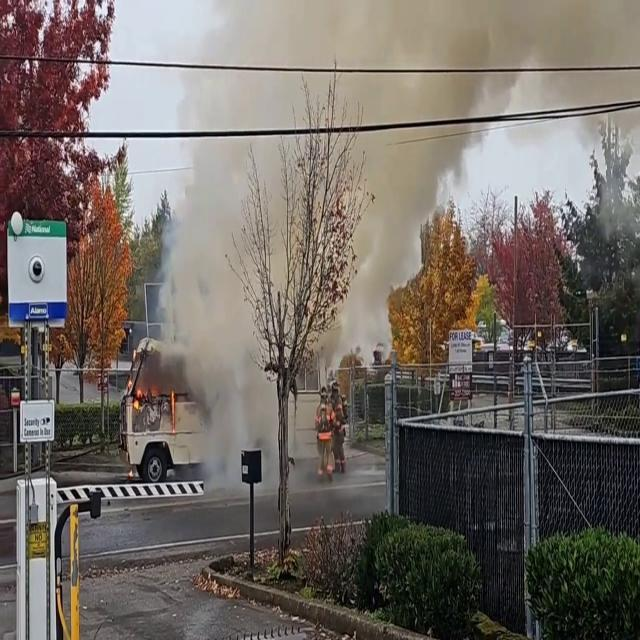Fire: (132, 363, 176, 422)
Smoke: (146, 0, 640, 227), (174, 138, 284, 476)
